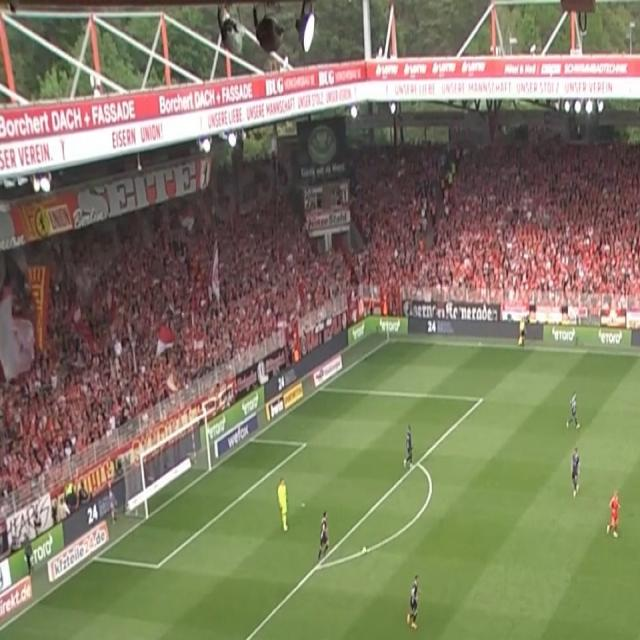ball: (361, 545, 367, 556)
